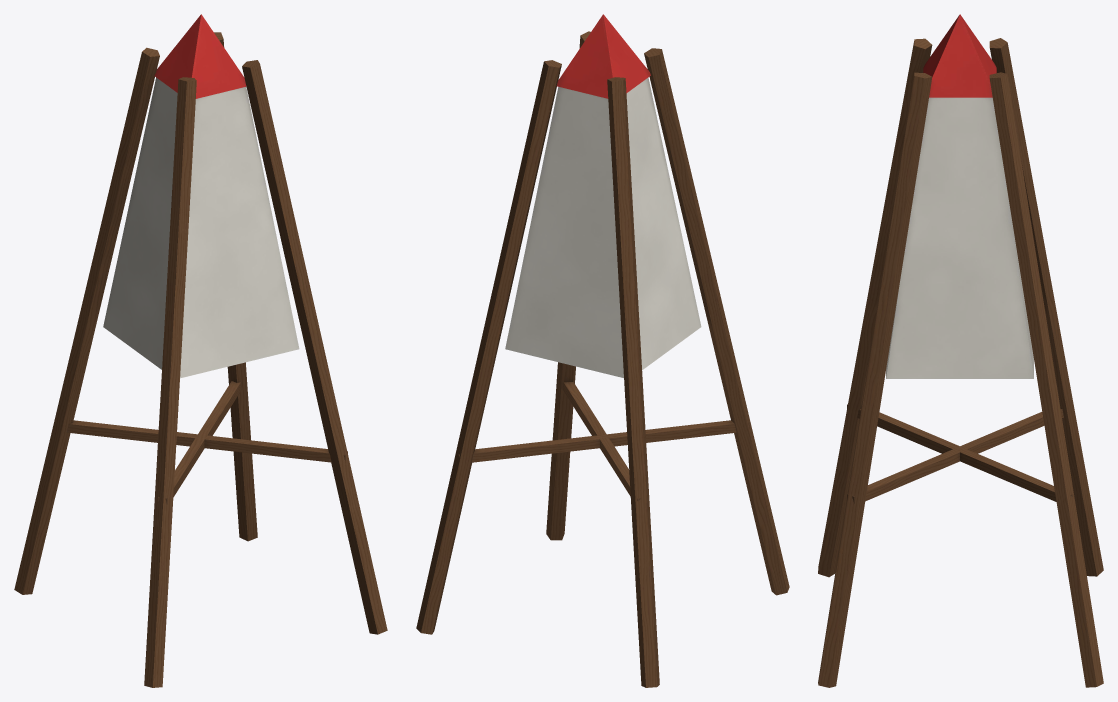
Rendered from bak_tex.glb.
3 views of the same model, side by side, from view 1: azimuth 30°, elevation 25°; view 2: azimuth 150°, elevation 25°; view 3: azimuth 270°, elevation 25° (orthographic). The views are drawn at different scales.
Visible parts, largest first — view 1: bak; view 2: bak; view 3: bak.
Boxes of the visible parts, x1=… form: bak: x1=14, y1=14, x2=387, y2=687; bak: x1=416, y1=14, x2=789, y2=687; bak: x1=818, y1=14, x2=1103, y2=687.
Size of the model in its own units: 3.43 by 8.13 by 3.42.
3 materials, 3 textured.
